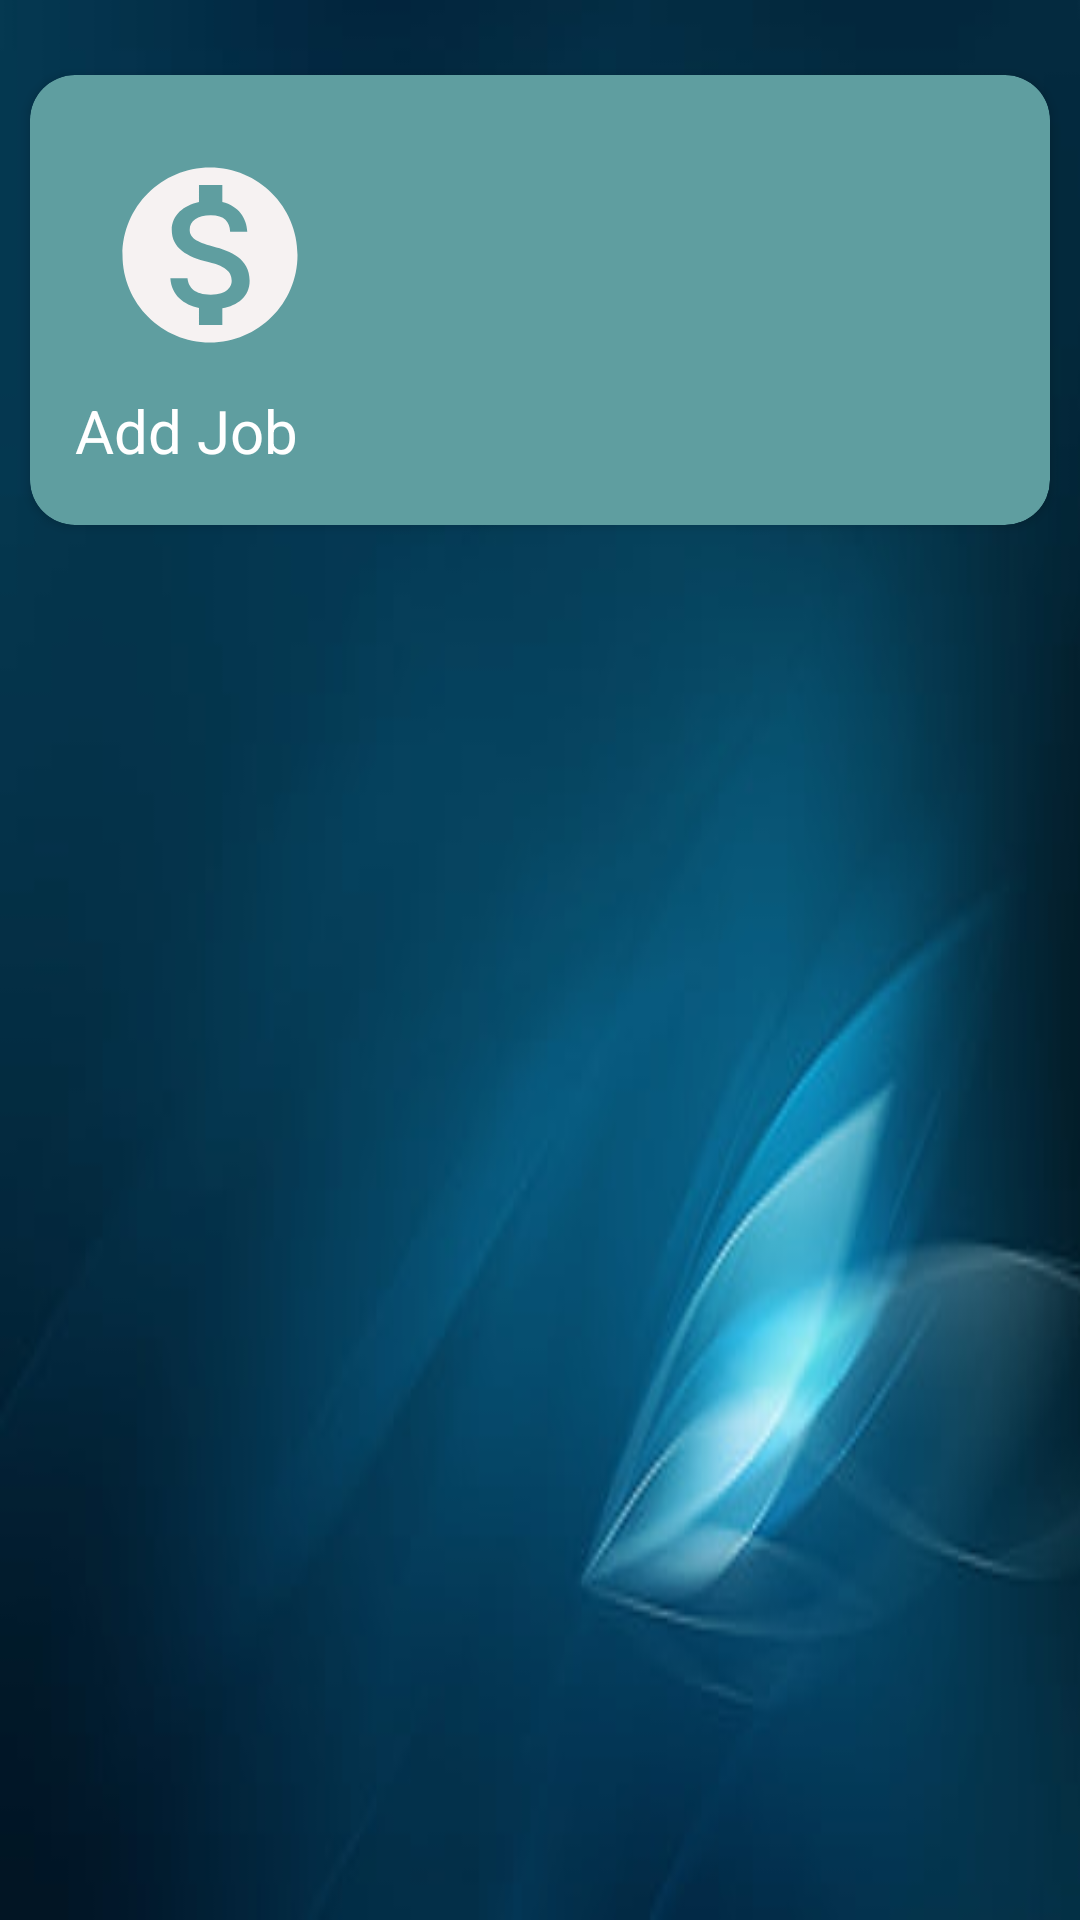

Named icons in this screenshot (1080×1920) and their centers, point (x, y):
money: point (210, 255)
